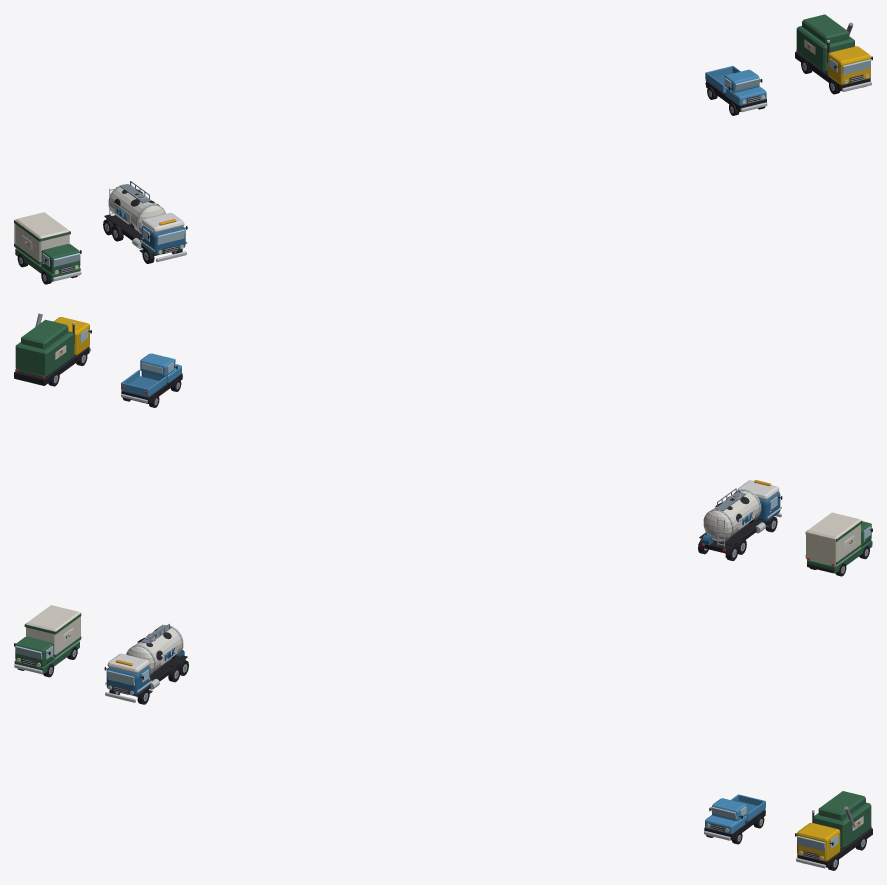
The model's file is farm-vehicles.glb.
3 renders of one model, top to bottom at view 1: azimuth 30°, elevation 25°; view 2: azimuth 150°, elevation 25°; view 3: azimuth 330°, elevation 25°, orthographic.
Parts seen in each view (by area): view 1: fm_feedtruck_mesh, fm_tanker_mesh, fm_van_mesh, fm_pickup_mesh; view 2: fm_feedtruck_mesh, fm_tanker_mesh, fm_van_mesh, fm_pickup_mesh; view 3: fm_feedtruck_mesh, fm_tanker_mesh, fm_van_mesh, fm_pickup_mesh.
Part boxes in pixels (x1=…): fm_feedtruck_mesh: x1=795, y1=14, x2=872, y2=91; fm_tanker_mesh: x1=103, y1=181, x2=187, y2=261; fm_van_mesh: x1=14, y1=212, x2=81, y2=281; fm_pickup_mesh: x1=705, y1=66, x2=767, y2=111; fm_feedtruck_mesh: x1=14, y1=313, x2=91, y2=385; fm_tanker_mesh: x1=698, y1=480, x2=782, y2=558; fm_van_mesh: x1=805, y1=512, x2=872, y2=573; fm_pickup_mesh: x1=121, y1=353, x2=182, y2=403; fm_feedtruck_mesh: x1=795, y1=791, x2=872, y2=868; fm_tanker_mesh: x1=104, y1=623, x2=188, y2=702; fm_van_mesh: x1=14, y1=605, x2=81, y2=674; fm_pickup_mesh: x1=704, y1=794, x2=765, y2=840.
Size of the model in its own units: 50.33 by 3.16 by 5.73.
